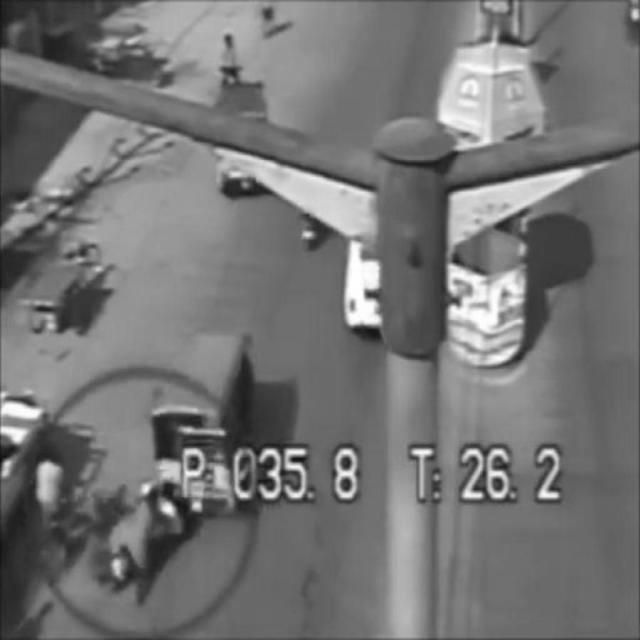accident: (97, 330, 259, 591)
